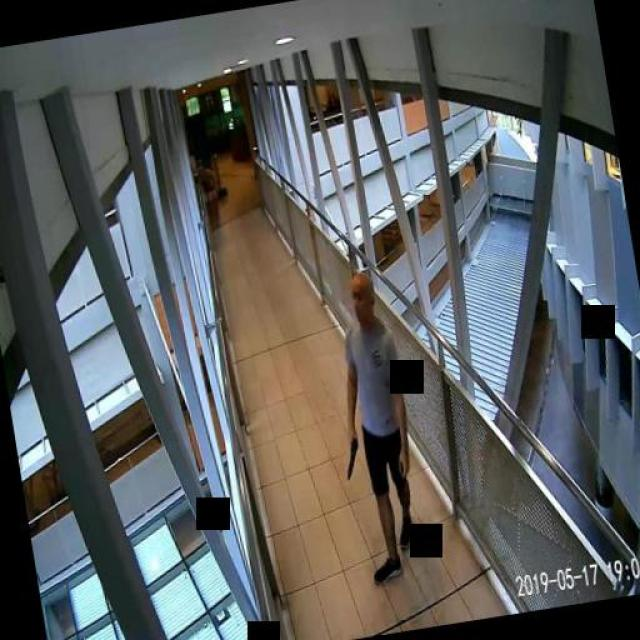gun: (339, 429, 361, 476)
